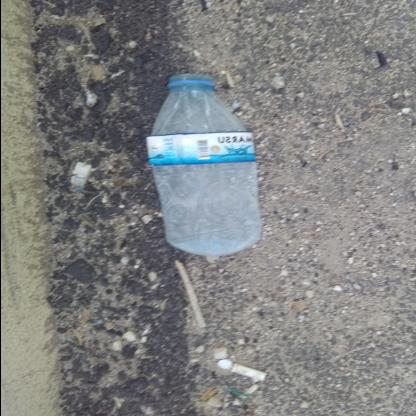plastik: (144, 72, 260, 257)
